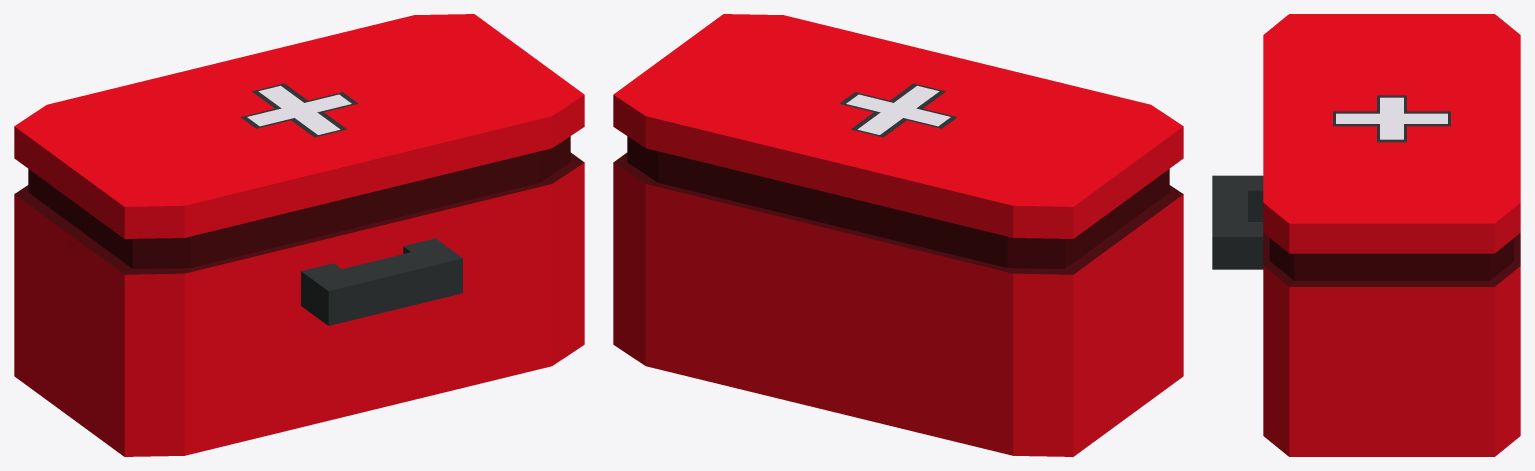
Rendered from HealthPowerUP.fbx.
3 renders of one model, left to right at view 1: azimuth 30°, elevation 25°; view 2: azimuth 150°, elevation 25°; view 3: azimuth 270°, elevation 25°, orthographic. The views are drawn at different scales.
Parts seen in each view (by area): view 1: HealthPowerUP; view 2: HealthPowerUP; view 3: HealthPowerUP.
Part boxes in pixels (bbox=[...]): HealthPowerUP: bbox=[14, 14, 584, 456]; HealthPowerUP: bbox=[613, 14, 1183, 456]; HealthPowerUP: bbox=[1212, 14, 1520, 456].
Bounding box in the file's own units: 0.6162 × 0.32 × 0.3835.
